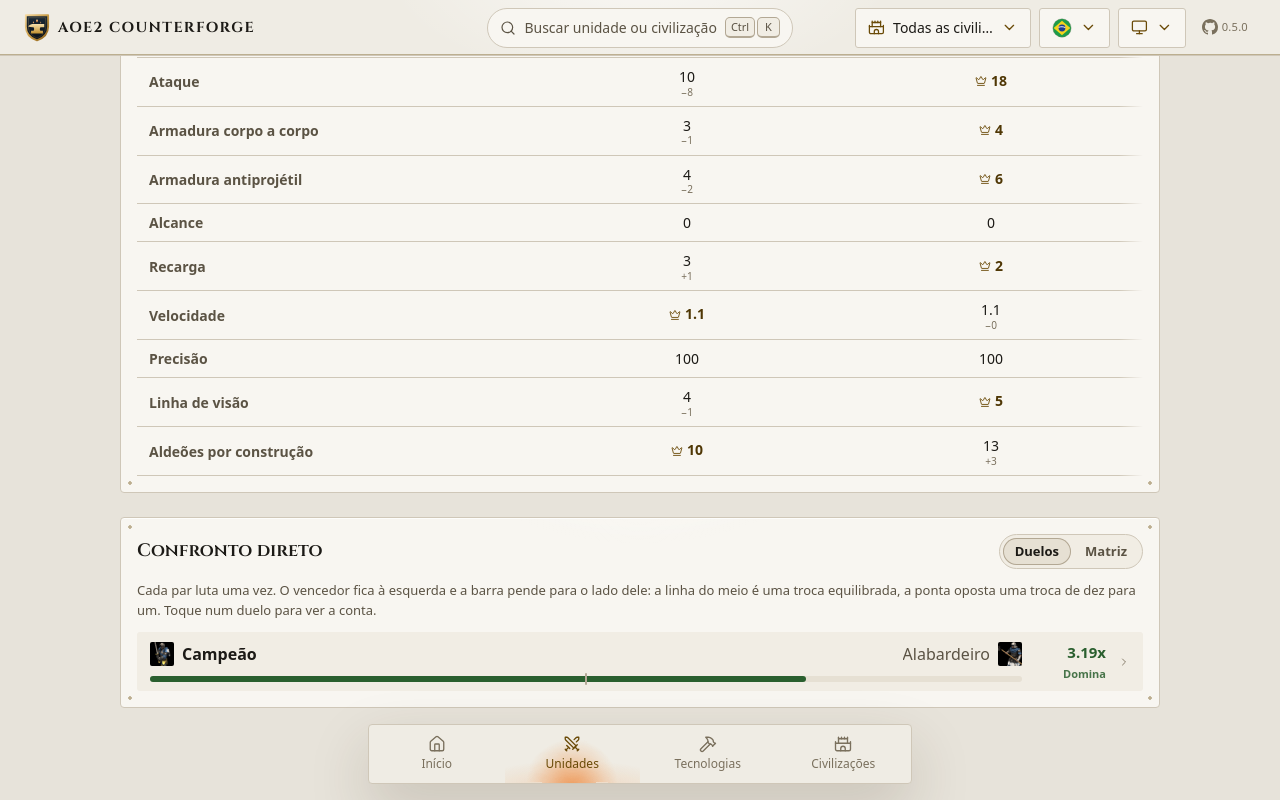
App › switches the head to head to the grid
(page scrolled)
Click the button "Matriz". click: {"x": 1106, "y": 552}
box: [1073,538,1139,566]
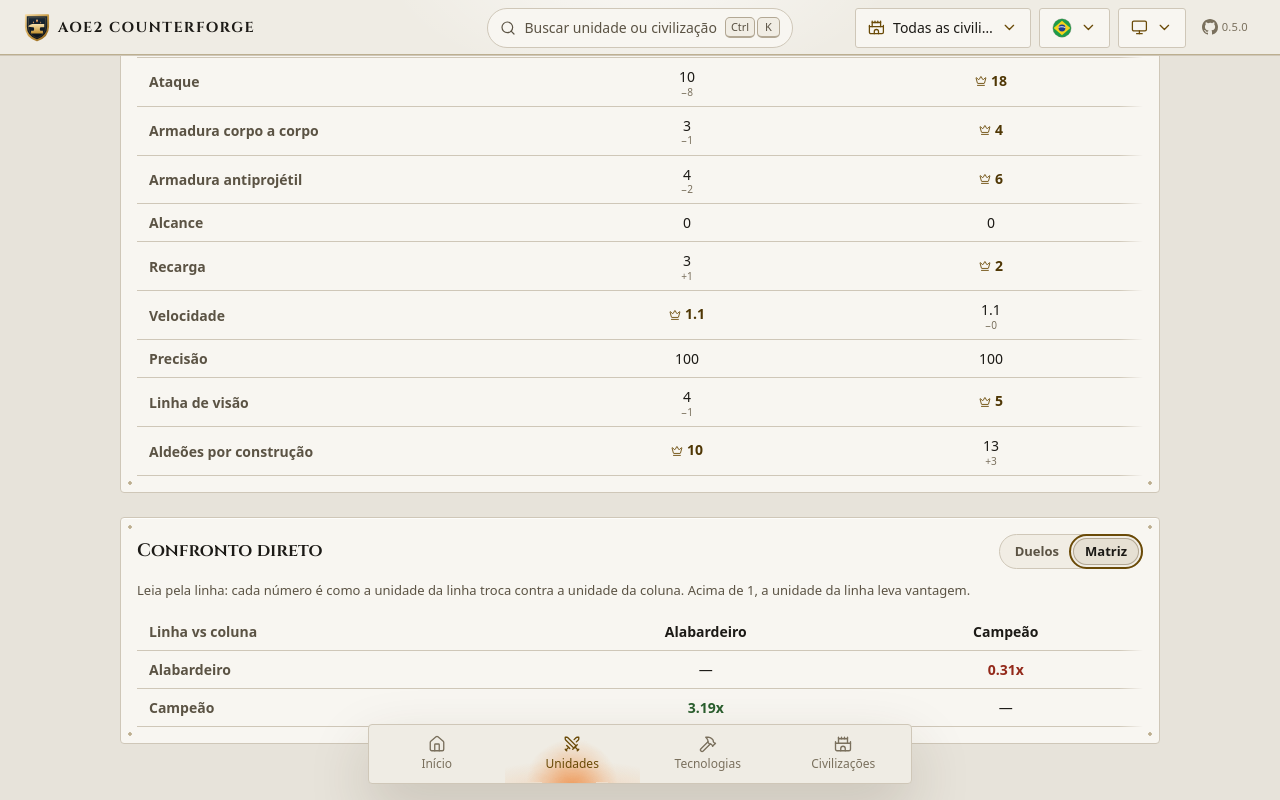
Expected: the column heading "Linha vs coluna" is shown, [137,613,543,650]
